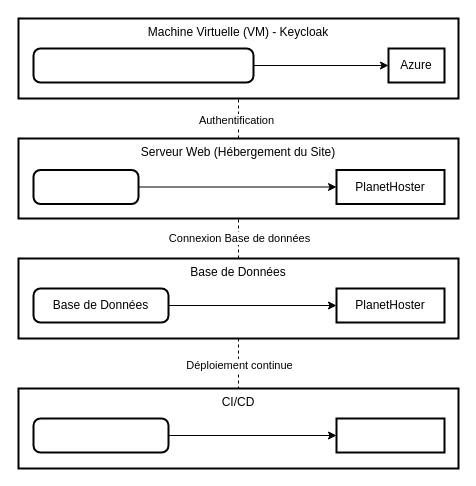
This 476x486 diagram has some shape labels left out. The shapes that lost their labels are listed below. From the top down, each one's centre as x and y in pixels, then its label:
(143,65): Machine Virtuelle - Keycloak
(85,186): Serveur Web
(100,435): Intégration du déploiement continue
(390,435): Github
